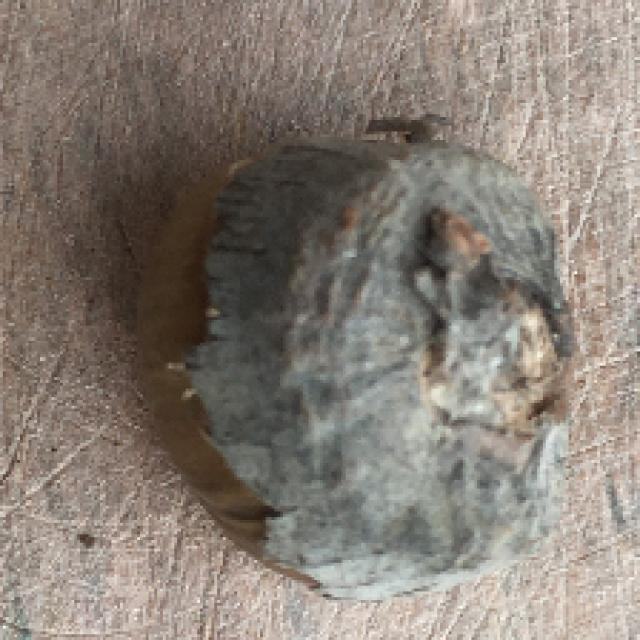damagedHazelnut: (120, 105, 640, 606)
